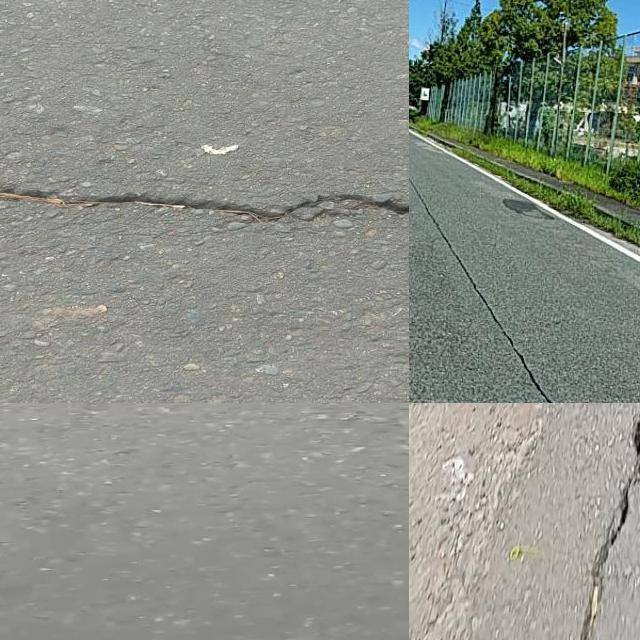Melintang: (0, 167, 409, 243)
Memanjang: (409, 160, 570, 403), (558, 403, 640, 640)
